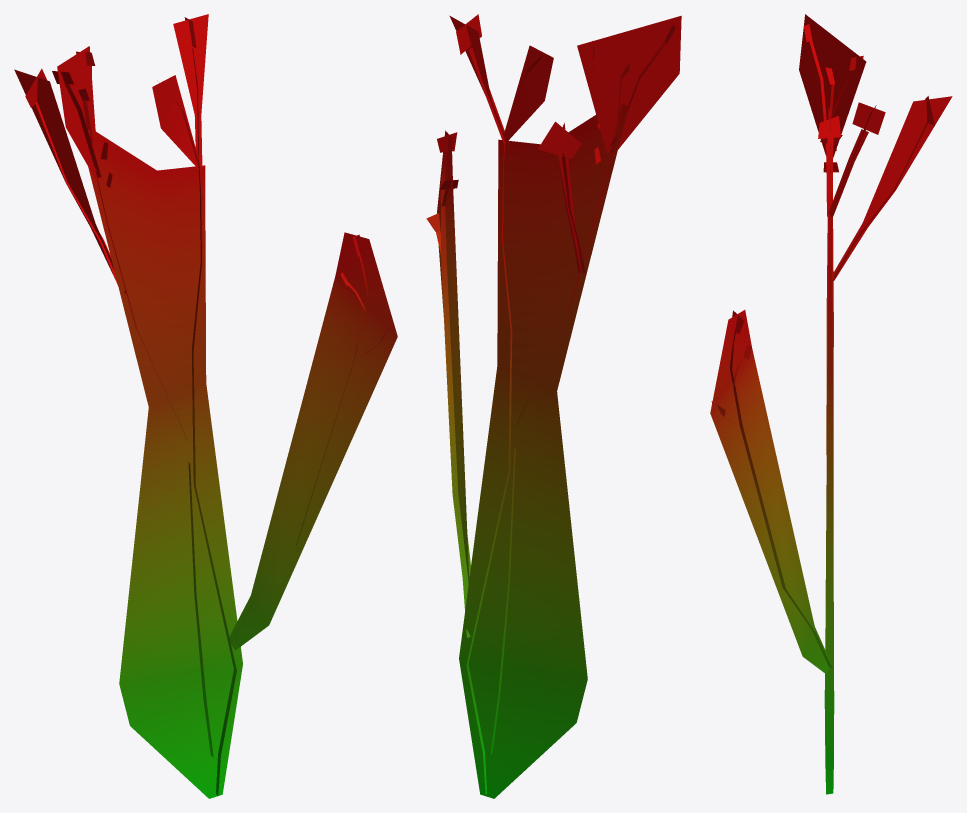
Rendered from Nordic Coastal Groundcover_LOD2_Var1_vlqkdeaja.fbx.
3 views of the same model, side by side, from view 1: azimuth 30°, elevation 25°; view 2: azimuth 150°, elevation 25°; view 3: azimuth 270°, elevation 25° (orthographic). The views are drawn at different scales.
Visible parts, largest first — view 1: _sj3z_var1_lod2; view 2: _sj3z_var1_lod2; view 3: _sj3z_var1_lod2.
Boxes of the visible parts, bbox=[...] form: _sj3z_var1_lod2: bbox=[14, 14, 397, 798]; _sj3z_var1_lod2: bbox=[426, 14, 681, 798]; _sj3z_var1_lod2: bbox=[710, 14, 952, 794].
Size of the model in its own units: 17.67 by 45.69 by 14.21.
